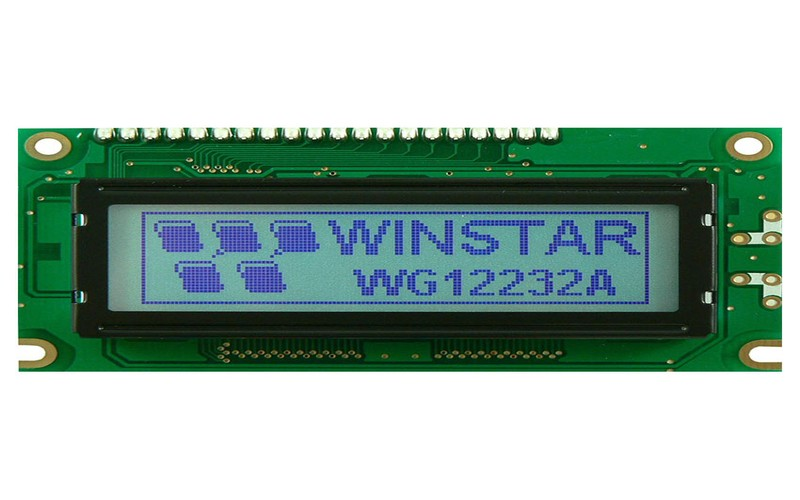LCD: (60, 169, 719, 339)
